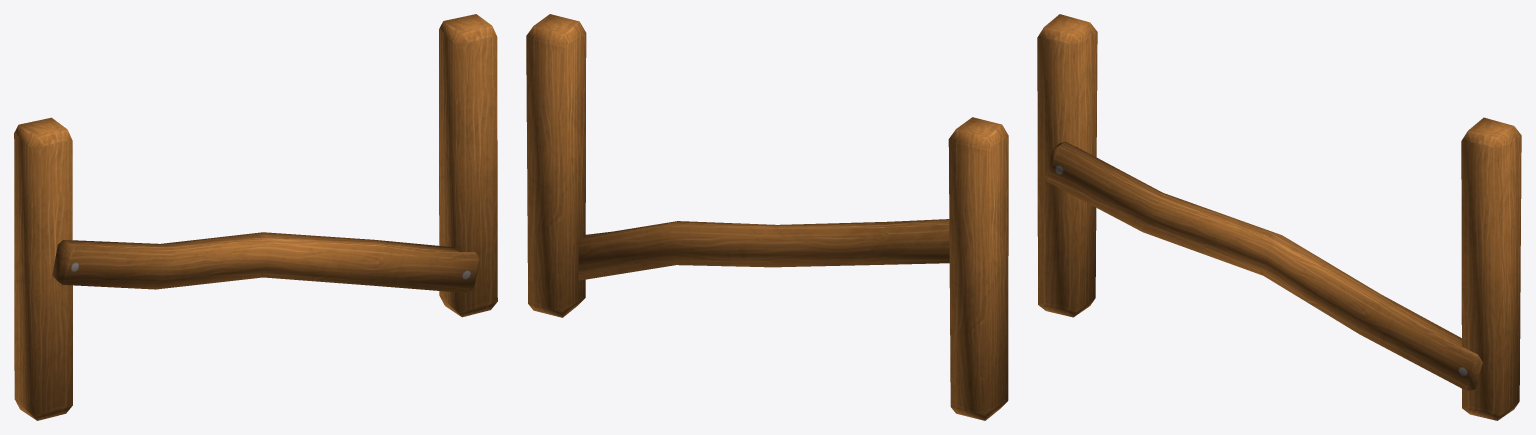
The model's file is SM_Stylized_Fence_01.glb.
3 views of the same model, side by side, from view 1: azimuth 30°, elevation 25°; view 2: azimuth 150°, elevation 25°; view 3: azimuth 330°, elevation 25° (orthographic).
Visible parts, largest first — view 1: SM_Stylized_Fence_01; view 2: SM_Stylized_Fence_01; view 3: SM_Stylized_Fence_01.
Boxes of the visible parts, <box> form: SM_Stylized_Fence_01: <box>14,14,497,420</box>; SM_Stylized_Fence_01: <box>526,14,1008,420</box>; SM_Stylized_Fence_01: <box>1037,14,1521,420</box>.
Size of the model in its own units: 2.3 by 1.35 by 0.2725.
Materials: 1 (1 with a texture image).
